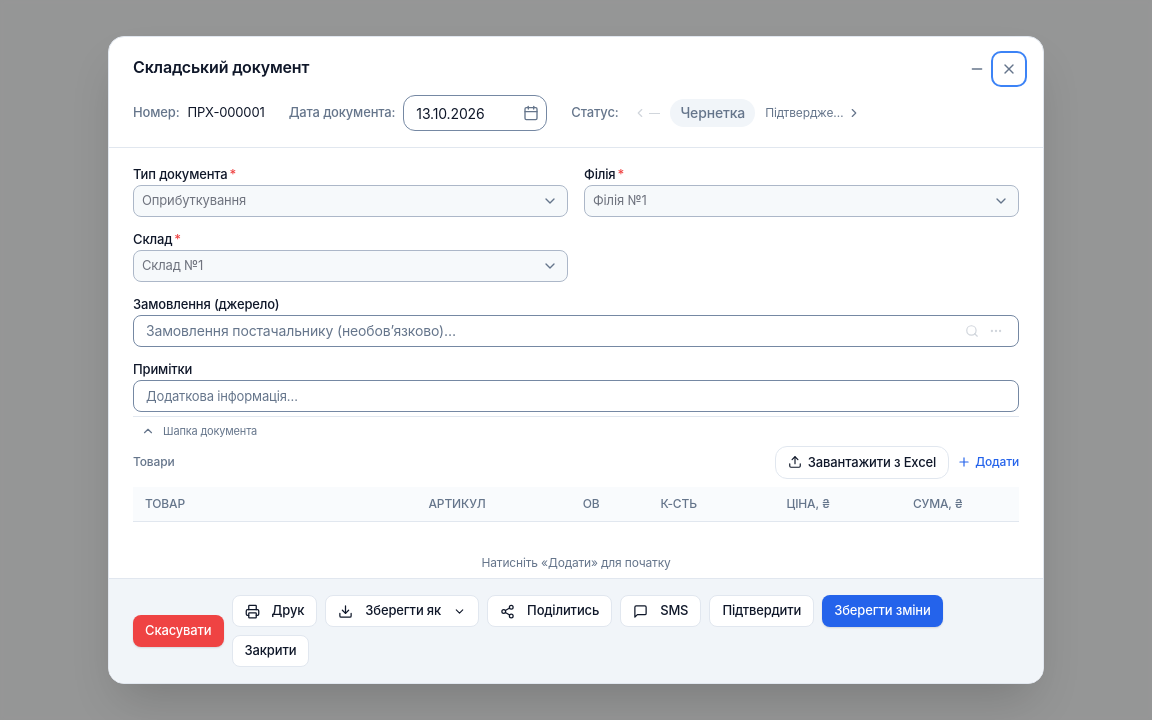
Scenario: Картка складського документа — артикул, кількість, час проведення › новий рядок: артикул обраного товару видно в рядку введення
The image size is (1152, 720).
Click the button "Додати". click: coordinates (988, 462)
box: [957,454,1019,470]
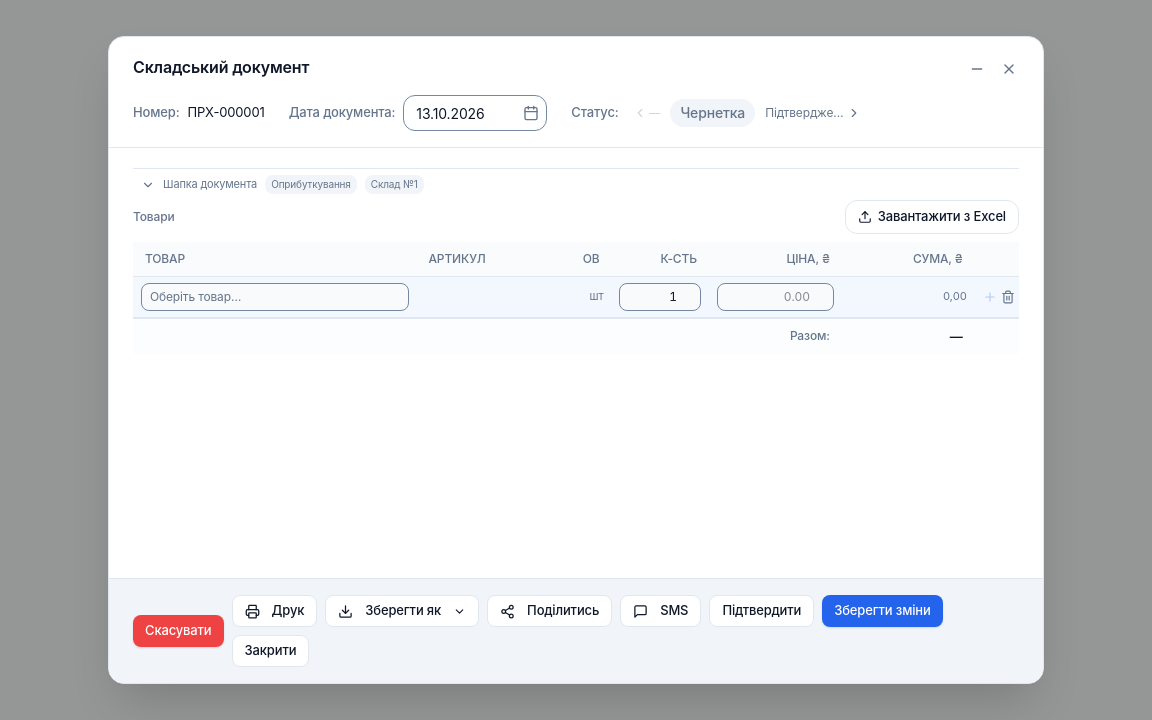
Click the button "Оберіть товар…". click: coordinates (196, 296)
box: [141,282,408,310]
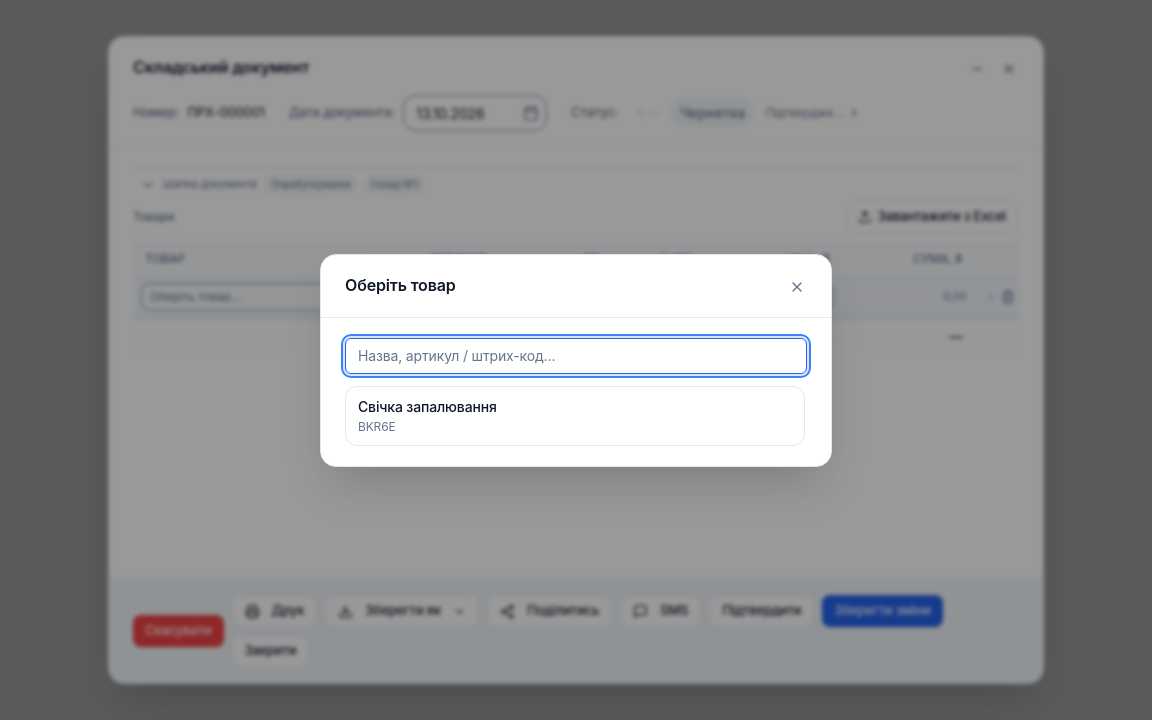
Click the text "Свічка запалювання". click: coordinates (427, 406)
box: [358,398,497,414]
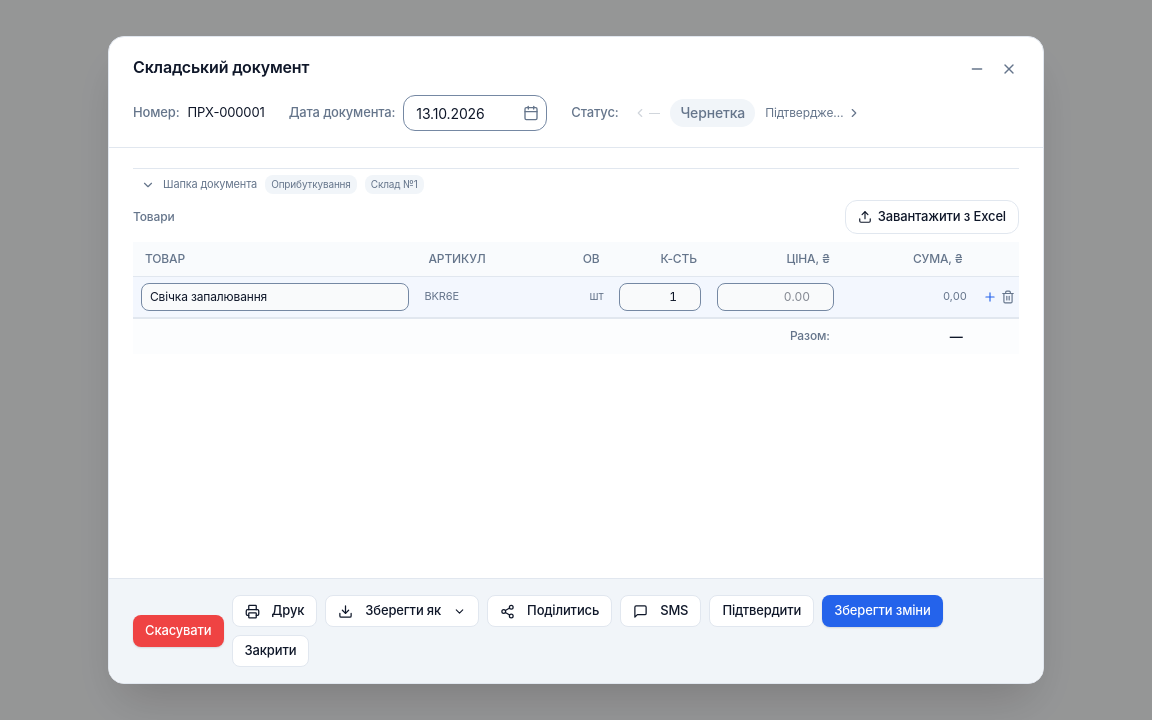
Expected: the cell "BKR6E" is shown, [416,276,540,318]
